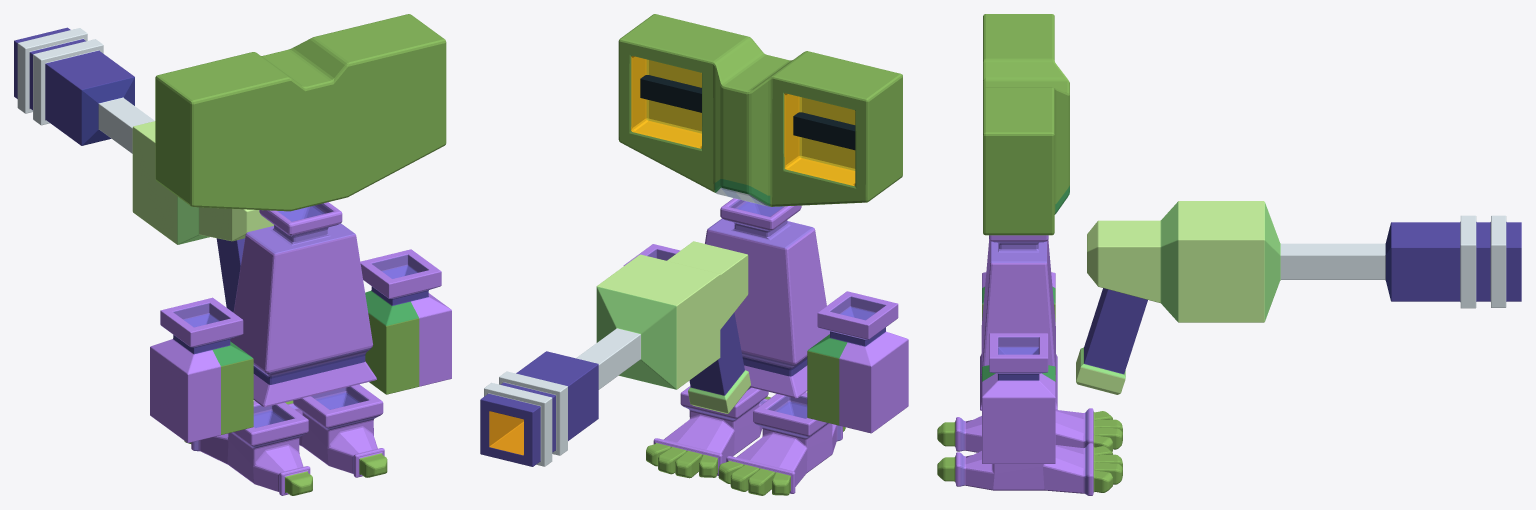
File: alien.fbx
The picture shows the model from 3 angles, left to right: view 1: azimuth 30°, elevation 25°; view 2: azimuth 150°, elevation 25°; view 3: azimuth 270°, elevation 25°; orthographic projection. The views are drawn at different scales.
Visible parts, largest first — view 1: alienHead, alienBody, Cube.002, Cube.001, Cube, alienLeftFoot, alienRightFoot; view 2: alienHead, Cube.002, alienBody, Cube.001, alienLeftFoot, alienRightFoot, alienLeftEye, alienRightEye; view 3: Cube.002, alienHead, Cube, alienBody, alienRightFoot, alienLeftFoot.
Boxes of the visible parts, box(x1,y1,x2,y2) form: alienHead: box(155, 14, 446, 211); alienBody: box(230, 202, 376, 407); Cube.002: box(14, 27, 273, 312); Cube.001: box(150, 297, 253, 442); Cube: box(360, 249, 451, 394); alienLeftFoot: box(184, 401, 312, 495); alienRightFoot: box(285, 384, 387, 477); alienHead: box(618, 14, 902, 206); Cube.002: box(480, 241, 750, 466); alienBody: box(705, 198, 829, 398); Cube.001: box(807, 291, 908, 433); alienLeftFoot: box(718, 392, 845, 495); alienRightFoot: box(646, 386, 770, 478); alienLeftEye: box(793, 112, 855, 150); alienRightEye: box(640, 75, 701, 112); Cube.002: box(1076, 201, 1521, 394); alienHead: box(983, 14, 1069, 235); Cube: box(982, 333, 1055, 463); alienBody: box(980, 235, 1057, 410); alienRightFoot: box(937, 443, 1122, 495); alienLeftFoot: box(937, 408, 1122, 452).
Bounding box in the file's own units: 213 × 311 × 423.
1 material, 1 textured.
